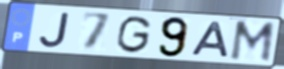7: (81, 11, 112, 53)
9: (156, 16, 192, 59)
A: (190, 20, 232, 59)
G: (114, 14, 153, 55)
J: (38, 11, 72, 49)
M: (228, 20, 278, 65)
